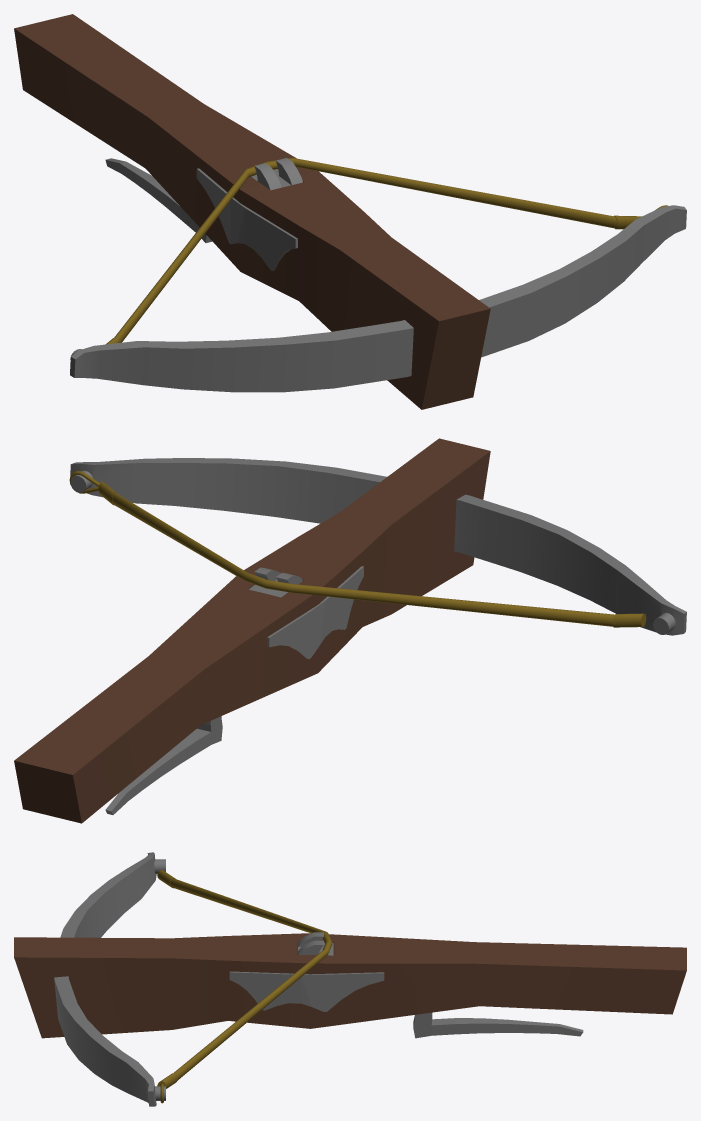
The model's file is HeavyCrossbow.fbx.
The picture shows the model from 3 angles, top to bottom: view 1: azimuth 30°, elevation 25°; view 2: azimuth 150°, elevation 25°; view 3: azimuth 270°, elevation 25°; orthographic projection. The views are drawn at different scales.
Parts seen in each view (by area): view 1: Proto_HeavyCrossbow; view 2: Proto_HeavyCrossbow; view 3: Proto_HeavyCrossbow.
Boxes of the visible parts, bbox=[...] form: Proto_HeavyCrossbow: bbox=[14, 14, 686, 409]; Proto_HeavyCrossbow: bbox=[14, 438, 686, 823]; Proto_HeavyCrossbow: bbox=[14, 852, 686, 1106].
Size of the model in its own units: 50.44 by 9.52 by 60.
